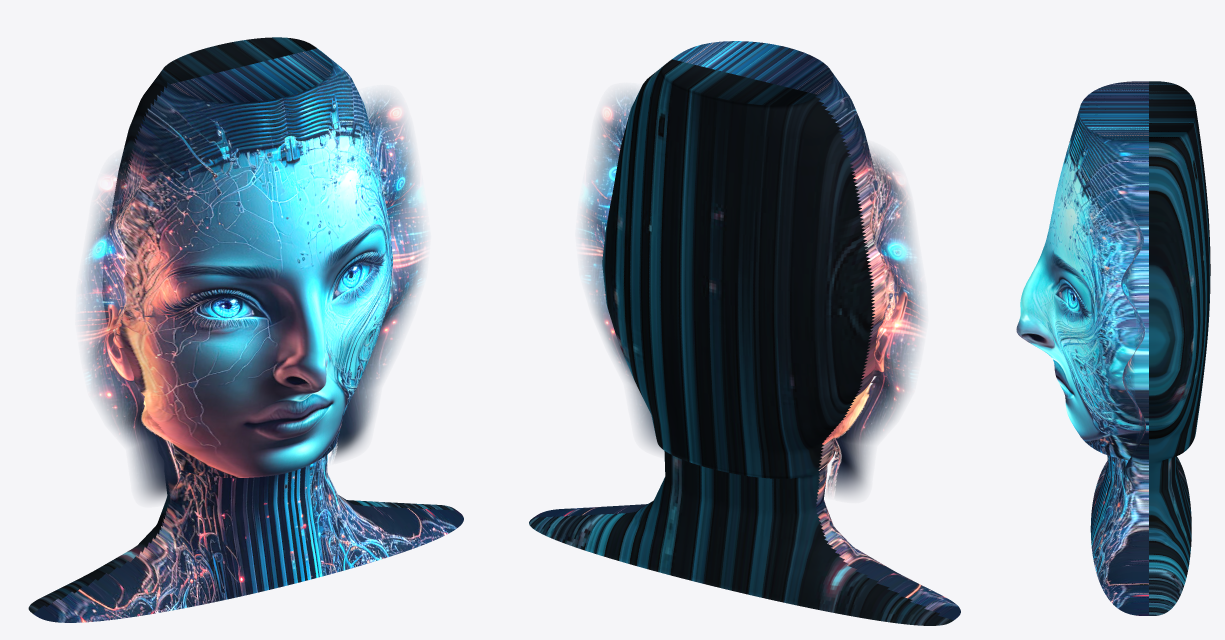
Rendered from eris-hologram.glb.
3 renders of one model, left to right at view 1: azimuth 30°, elevation 25°; view 2: azimuth 150°, elevation 25°; view 3: azimuth 270°, elevation 25°, orthographic. The views are drawn at different scales.
Visible parts, largest first — view 1: Eris bust, Eris filaments; view 2: Eris bust, Eris filaments; view 3: Eris bust, Eris filaments.
Boxes of the visible parts, box(x1,y1,x2,y2) form: Eris bust: box(28, 37, 463, 622); Eris filaments: box(82, 95, 425, 500); Eris bust: box(529, 41, 960, 625); Eris filaments: box(581, 92, 923, 495); Eris bust: box(1016, 81, 1210, 615); Eris filaments: box(1121, 199, 1145, 490).
Size of the model in its own units: 3.6 by 3.6 by 1.52.
3 materials, 3 textured.
